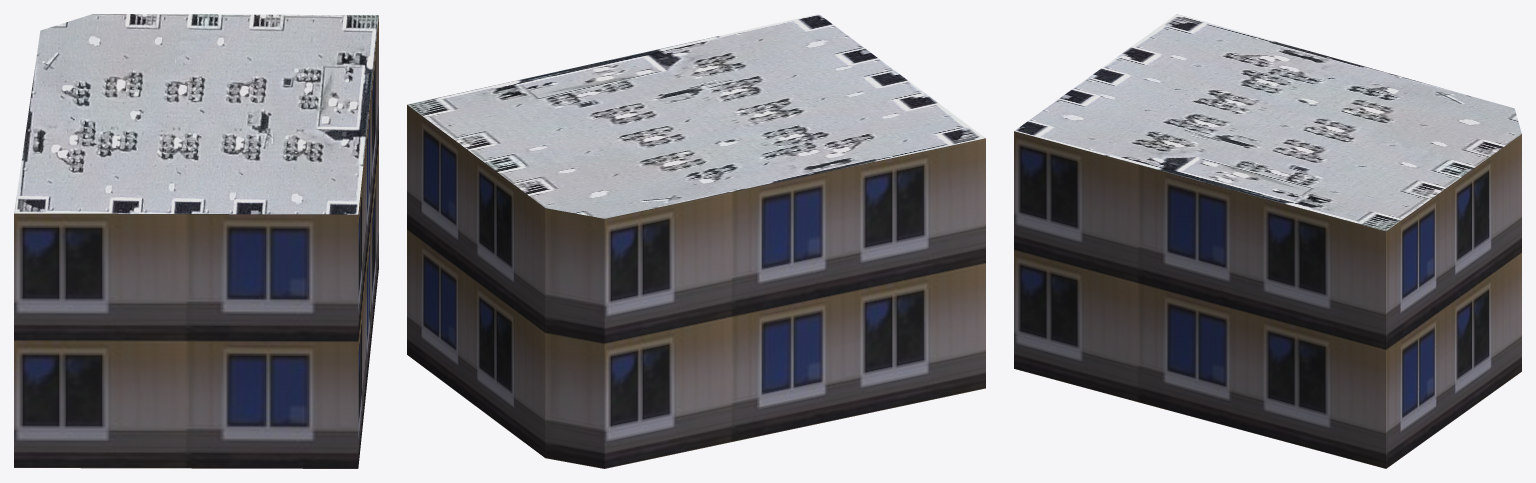
File: ResTex__105.fbx
3 views of the same model, side by side, from view 1: azimuth 30°, elevation 25°; view 2: azimuth 150°, elevation 25°; view 3: azimuth 270°, elevation 25° (orthographic). The views are drawn at different scales.
Parts seen in each view (by area): view 1: CityEngineMaterial_5_m, CityEngineMaterial_8_m; view 2: CityEngineMaterial_5_m, CityEngineMaterial_8_m; view 3: CityEngineMaterial_5_m, CityEngineMaterial_8_m.
Boxes of the visible parts, bbox=[...] form: CityEngineMaterial_5_m: bbox=[14, 16, 378, 468]; CityEngineMaterial_8_m: bbox=[14, 14, 378, 214]; CityEngineMaterial_5_m: bbox=[407, 105, 985, 468]; CityEngineMaterial_8_m: bbox=[407, 14, 985, 218]; CityEngineMaterial_5_m: bbox=[1014, 131, 1521, 468]; CityEngineMaterial_8_m: bbox=[1014, 14, 1521, 230].
Size of the model in its own units: 11.77 by 6 by 11.62.
Materials: 2 (2 with a texture image).
